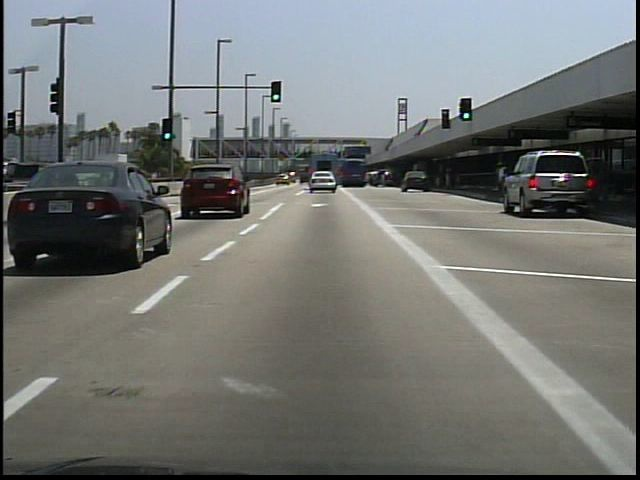person: (491, 156, 511, 205)
